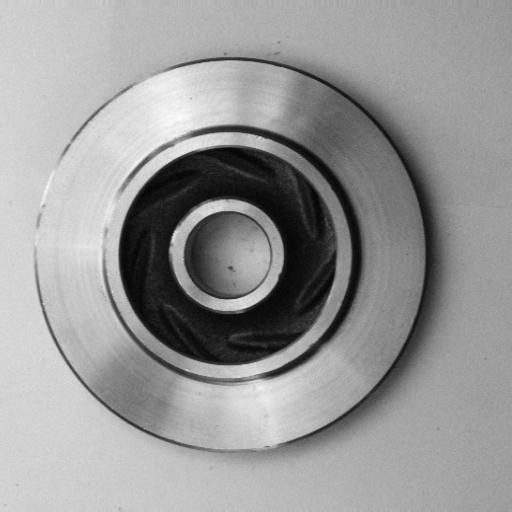scratch: (17, 149, 69, 265), (92, 168, 140, 269)
unpolished_casting: (32, 52, 429, 461)
